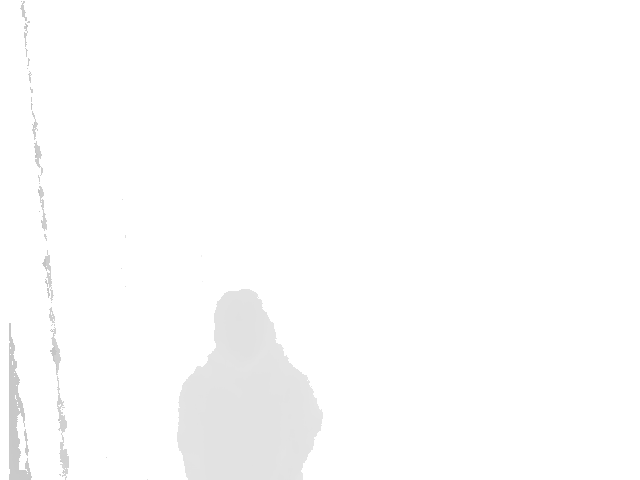head: (214, 290, 277, 378)
person: (177, 290, 323, 480)
